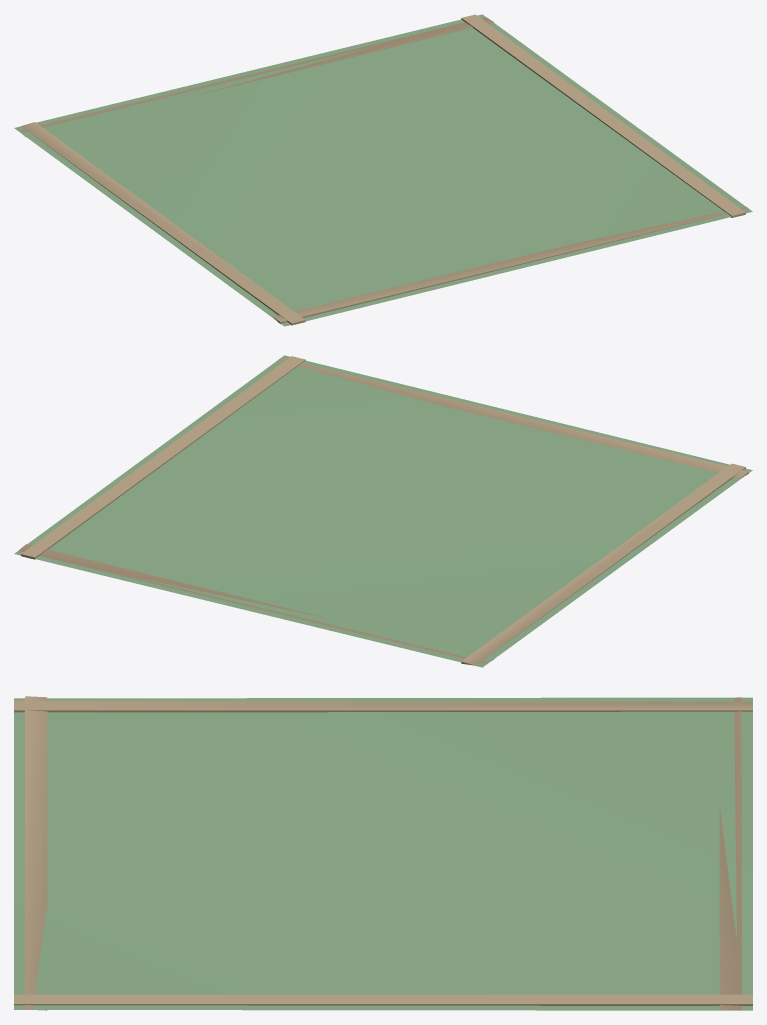
File: shop_rug_zone__garden_low.glb
The picture shows the model from 3 angles, top to bottom: view 1: azimuth 30°, elevation 25°; view 2: azimuth 150°, elevation 25°; view 3: azimuth 270°, elevation 25°; orthographic projection. The views are drawn at different scales.
Bounding box in the file's own units: 4 × 0.018 × 4.
